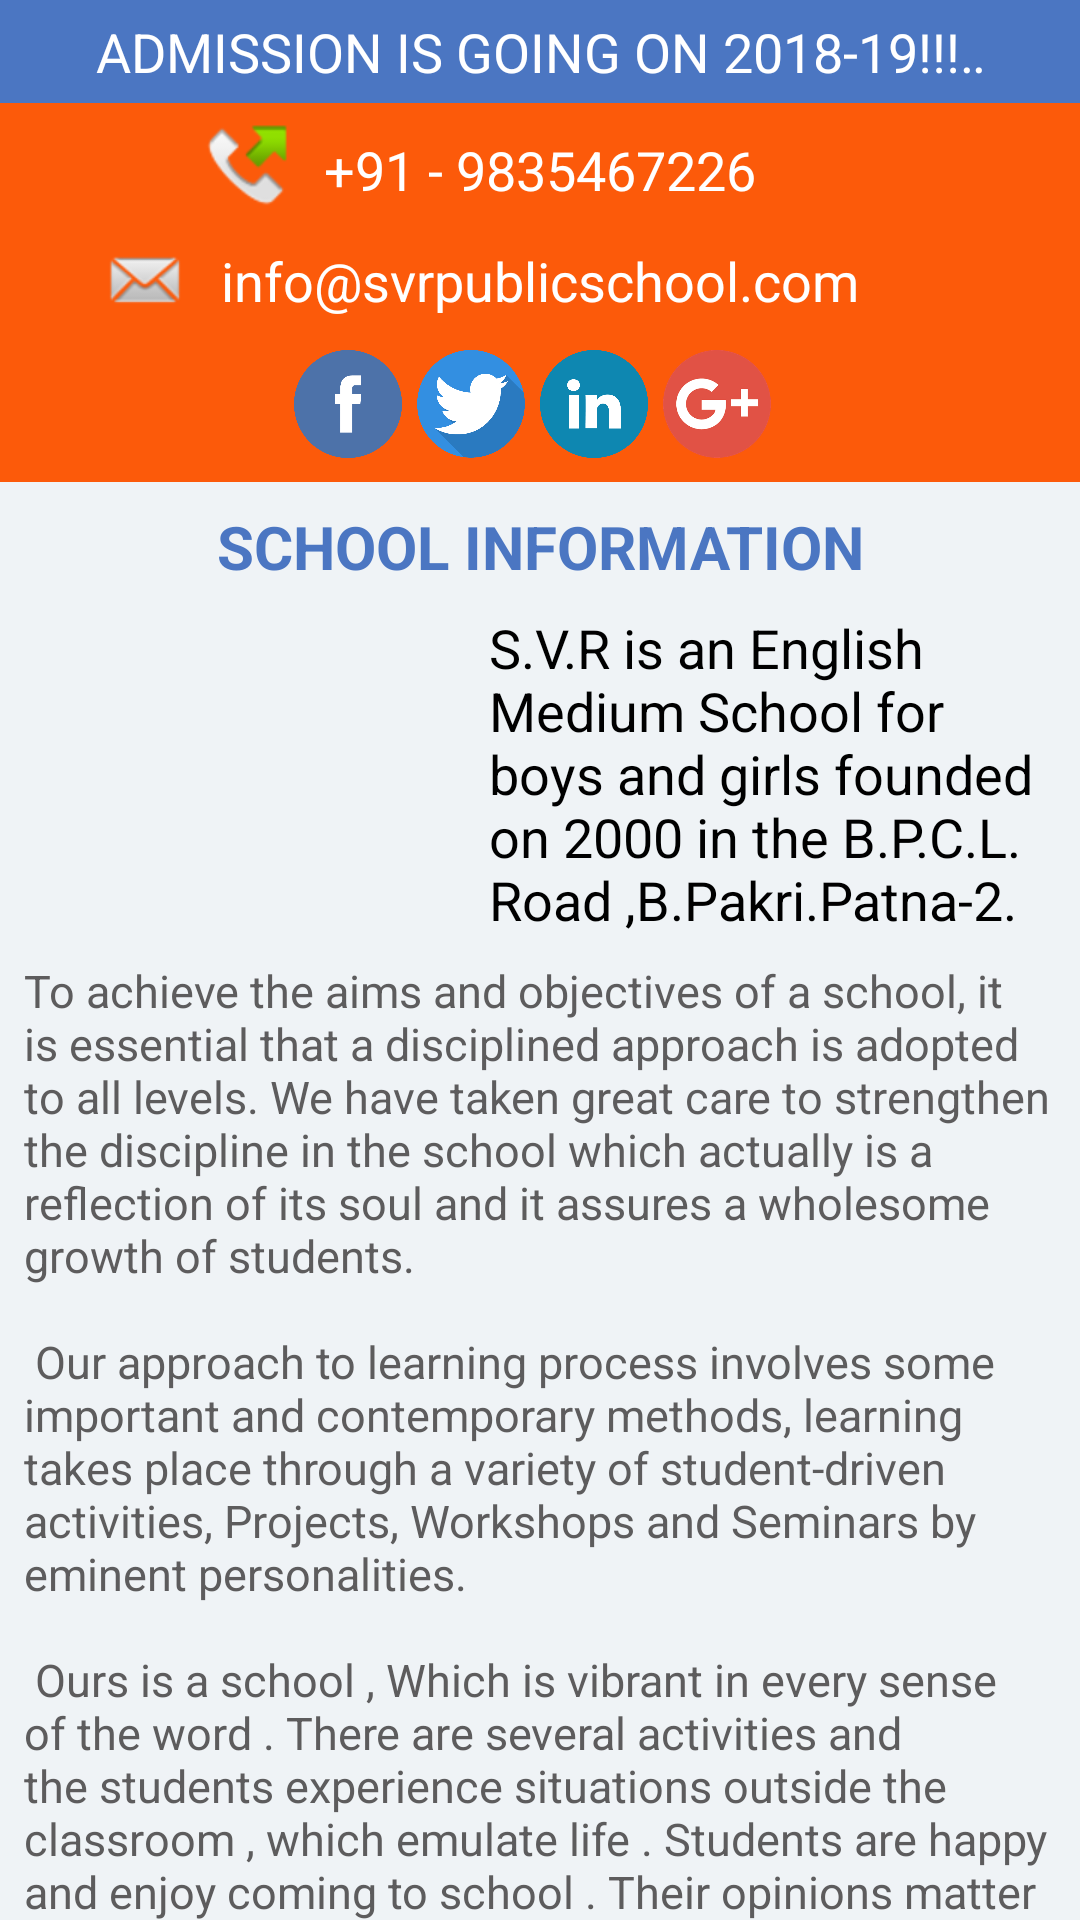

Icon bounding boxes for this 1080w x 1920h phone screenshot, format (x1, y1, x2, y2):
sym action email: (110, 257, 180, 303)
sym call outgoing: (208, 125, 287, 205)
